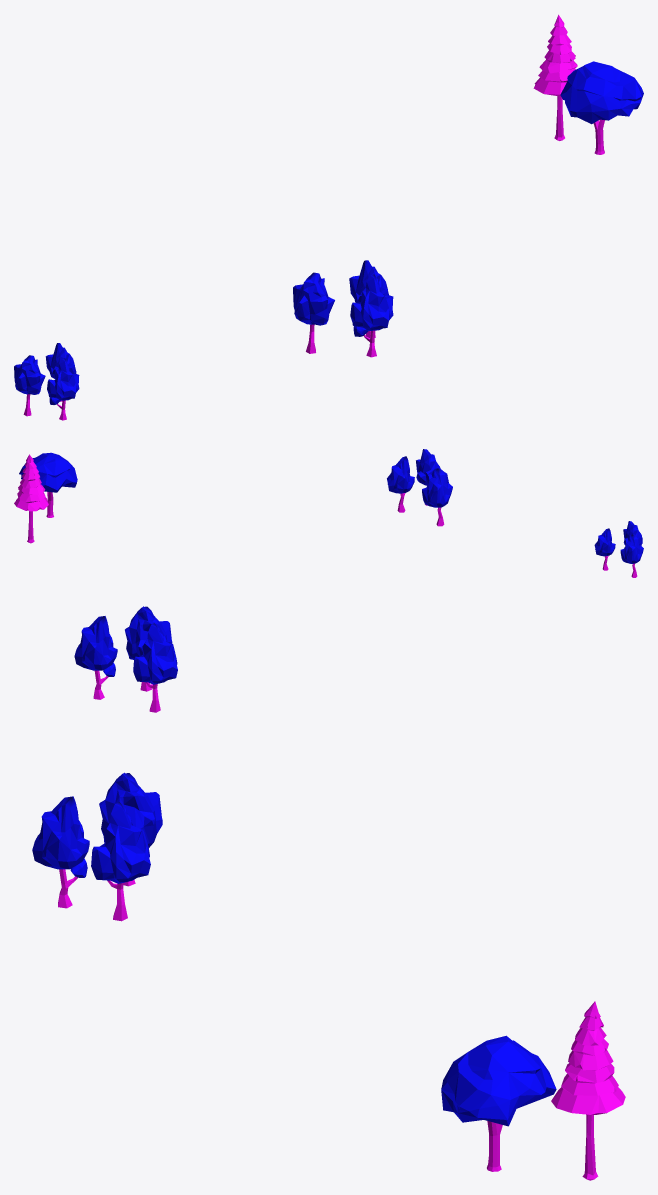
File: tree01.glb
3 renders of one model, top to bottom at view 1: azimuth 30°, elevation 25°; view 2: azimuth 150°, elevation 25°; view 3: azimuth 270°, elevation 25°, orthographic. The views are drawn at different scales.
Parts seen in each view (by area): view 1: SM_Tree_04 (2), SM_Tree_PolyPine_01 (2), SM_Tree_03 (1), SM_Tree_02 (1), SM_Tree_03, SM_Tree_02, SM_Tree_01 (1); view 2: SM_Tree_04 (2), SM_Tree_PolyPine_01 (2), SM_Tree_02 (1), SM_Tree_01 (1), SM_Tree_02, SM_Tree_03 (1), SM_Tree_01, SM_Tree_03; view 3: SM_Tree_04 (2), SM_Tree_PolyPine_01 (2), SM_Tree_01 (1), SM_Tree_03 (1), SM_Tree_02 (1), SM_Tree_01, SM_Tree_03, SM_Tree_02.
Boxes of the visible parts, x1,y1,x2,y2 form: SM_Tree_04 (2): (560,61,643,154); SM_Tree_PolyPine_01 (2): (533,14,577,140); SM_Tree_03 (1): (350,274,393,357); SM_Tree_02 (1): (293,272,334,353); SM_Tree_03: (47,358,79,420); SM_Tree_02: (14,355,45,416); SM_Tree_01 (1): (349,260,388,337); SM_Tree_04 (2): (19,452,77,517); SM_Tree_PolyPine_01 (2): (14,454,48,543); SM_Tree_02 (1): (422,468,452,526); SM_Tree_01 (1): (387,456,414,512); SM_Tree_02: (620,534,643,577); SM_Tree_03 (1): (416,449,440,505); SM_Tree_01: (594,528,615,570); SM_Tree_03: (623,521,642,545); SM_Tree_04 (2): (441,1035,556,1171); SM_Tree_PolyPine_01 (2): (551,1001,625,1180); SM_Tree_01 (1): (91,802,150,921); SM_Tree_03 (1): (32,796,89,908); SM_Tree_02 (1): (99,772,162,886); SM_Tree_01: (133,623,177,712); SM_Tree_03: (74,616,117,699); SM_Tree_02: (125,606,172,691).
Size of the model in its own units: 124 by 20.07 by 59.97.
